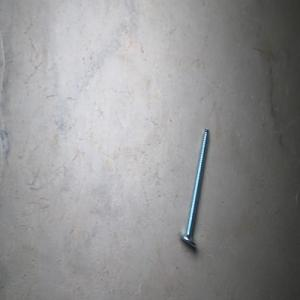Bolt: (178, 127, 210, 247)
